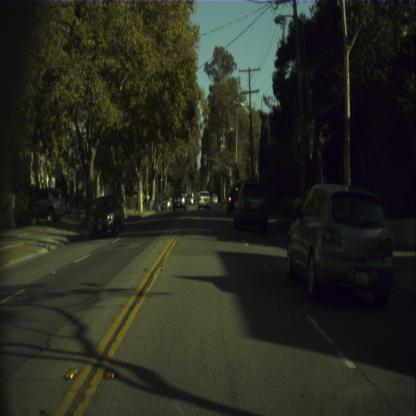Green: (203, 154, 206, 165), (160, 175, 162, 182), (230, 176, 232, 183)
